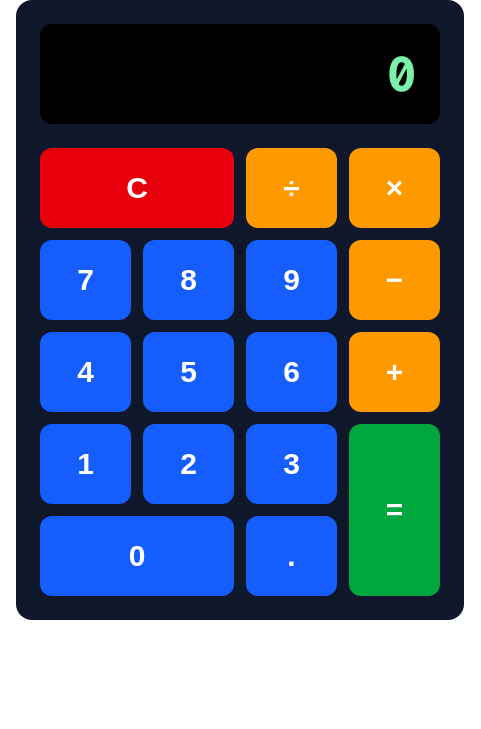
Test: Calculator Component › AC-1: Calculations via UI › division by zero shows error message
Step 1. Click the button "1" → click(86, 464), box [40,424,131,504]
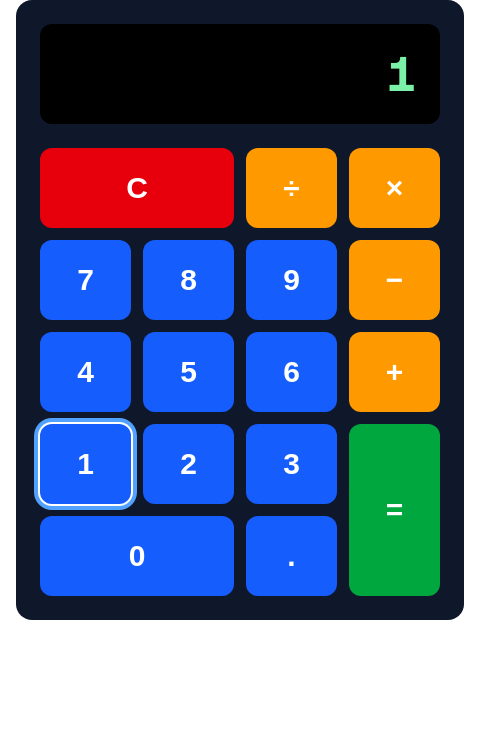
Step 2. Click the button "0" → click(137, 556), box [40,516,234,596]
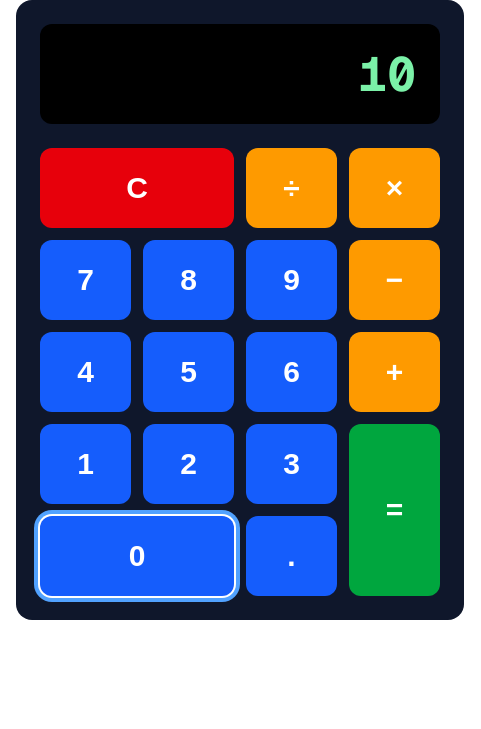
Step 3. Click the button named "Divide" → click(292, 188), box [246,148,337,228]
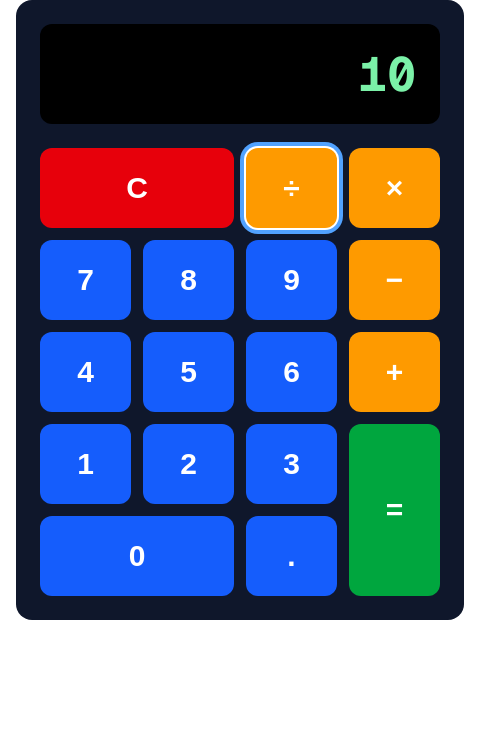
Step 4. Click the button "0" → click(137, 556), box [40,516,234,596]
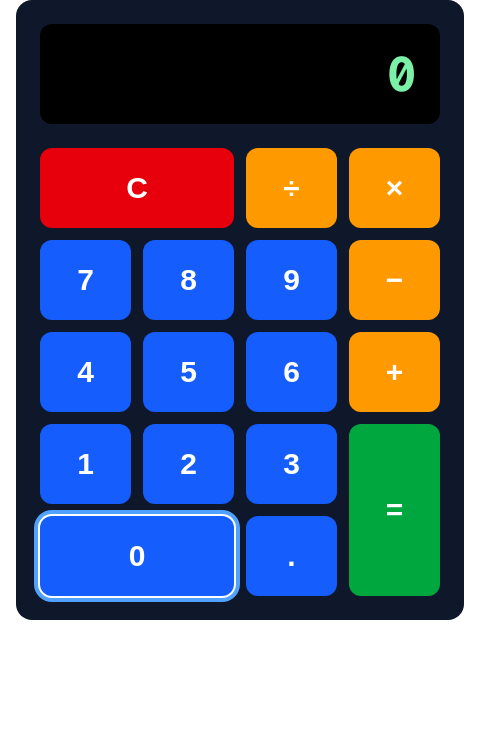
Step 5. Click the button named "Equals" → click(394, 510), box [349,424,440,596]
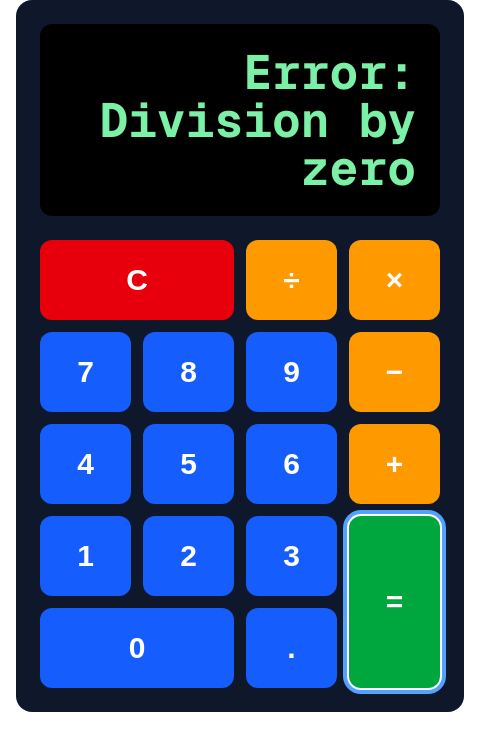
Check: the text with test id "calculator-display" shows "Error", box [99,41,416,199]
